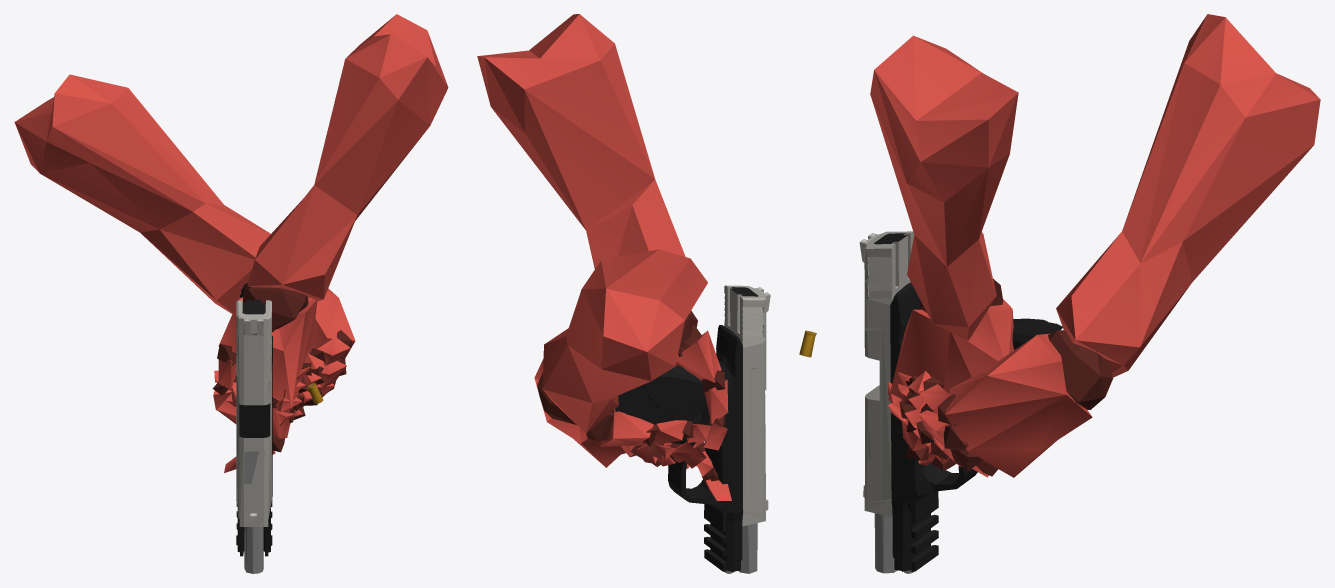
File: M&P9shootExtendLowPoly_000019.obj
The picture shows the model from 3 angles, left to right: view 1: azimuth 30°, elevation 25°; view 2: azimuth 150°, elevation 25°; view 3: azimuth 270°, elevation 25°; orthographic projection. The views are drawn at different scales.
Visible parts, largest first — view 1: Beta_Surface, slide_平面.002, Beta_Joints, body_平面, barrel_円.001; view 2: Beta_Surface, body_平面, slide_平面.002, Beta_Joints, barrel_円.001; view 3: Beta_Surface, body_平面, slide_平面.002, Beta_Joints, barrel_円.001.
Boxes of the visible parts, box(x1,y1,x2,y2) form: Beta_Surface: box(14, 14, 448, 472); slide_平面.002: box(236, 300, 271, 526); Beta_Joints: box(212, 285, 352, 452); body_平面: box(236, 283, 272, 556); barrel_円.001: box(244, 451, 269, 573); Beta_Surface: box(477, 14, 731, 500); body_平面: box(615, 325, 743, 572); slide_平面.002: box(724, 285, 770, 526); Beta_Joints: box(537, 310, 725, 488); barrel_円.001: box(739, 523, 757, 573); Beta_Surface: box(870, 14, 1320, 477); body_平面: box(890, 282, 1062, 571); slide_平面.002: box(859, 231, 914, 517); Beta_Joints: box(899, 278, 1113, 476); barrel_円.001: box(868, 425, 897, 573).
Bounding box in the file's own units: 46.82 × 74.49 × 56.42.
